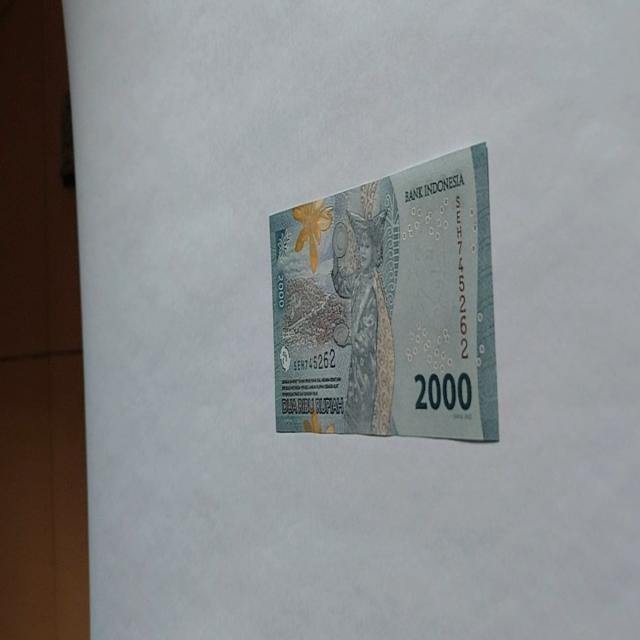dua ribu rupiah: (268, 140, 500, 442), (329, 188, 397, 434)
